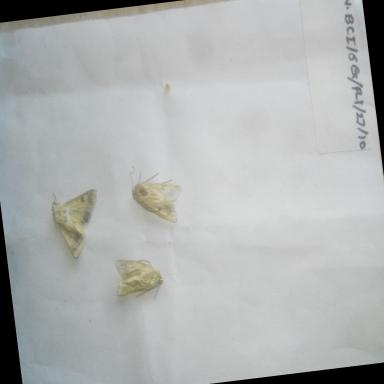abw: (46, 180, 116, 266), (120, 156, 190, 233), (106, 245, 170, 312)
